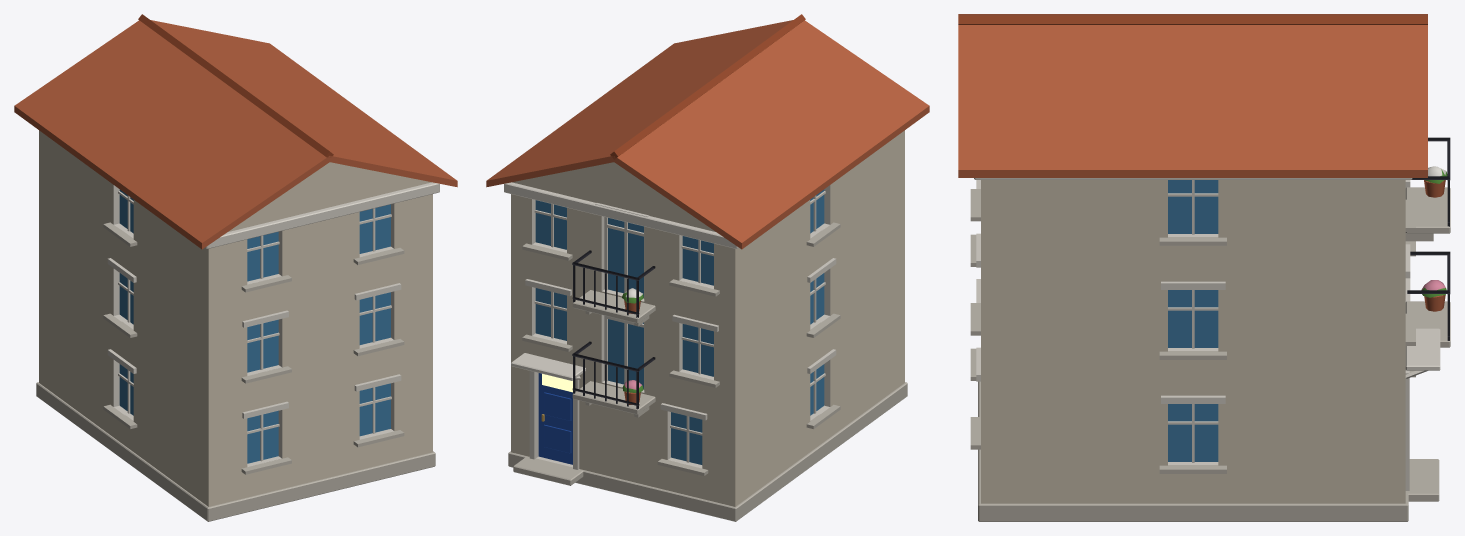
Rendered from house_c.glb.
The picture shows the model from 3 angles, left to right: view 1: azimuth 30°, elevation 25°; view 2: azimuth 150°, elevation 25°; view 3: azimuth 270°, elevation 25°; orthographic projection. The views are drawn at different scales.
Parts seen in each view (by area): view 1: house; view 2: house, plants; view 3: house, plants.
Part boxes in pixels (x1,y1,x2,y2): house: (14,14,457,521); house: (486,14,929,521); plants: (622,288,643,404); house: (958,14,1450,521); plants: (1421,166,1447,311).
Bounding box in the file's own units: 6.6 × 8.62 × 8.8.
